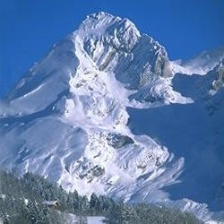neutral: (5, 3, 223, 219)
